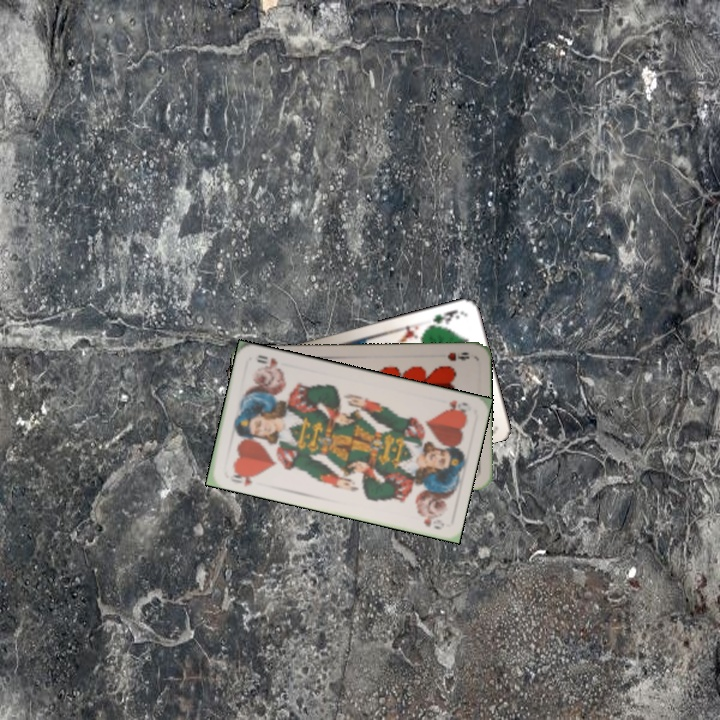GK: (425, 306, 464, 330)
H9: (443, 348, 472, 364)
HO: (226, 466, 260, 489), (441, 396, 471, 417)
